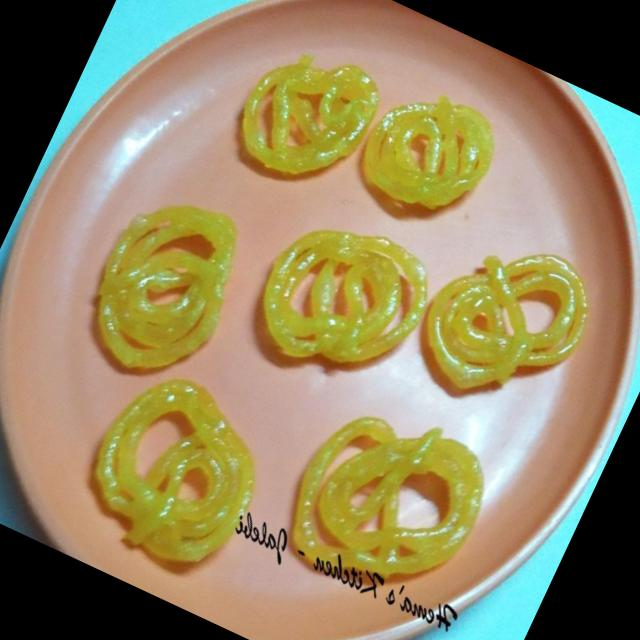jalebi: (221, 10, 512, 254), (264, 375, 495, 618), (72, 354, 298, 590), (236, 198, 444, 416), (400, 210, 603, 424), (68, 185, 259, 400)
